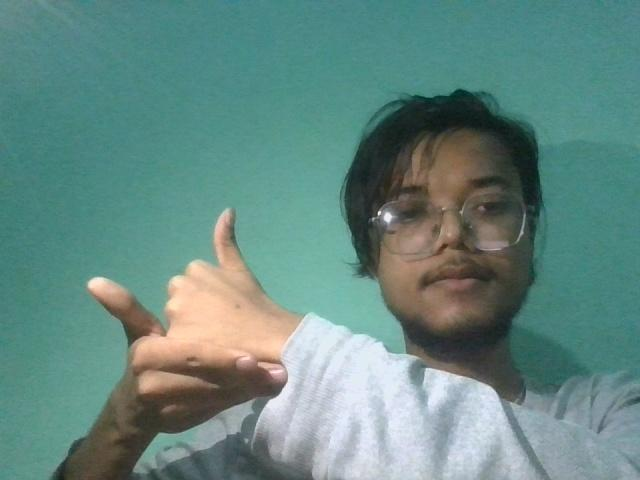help: (70, 193, 317, 419)
